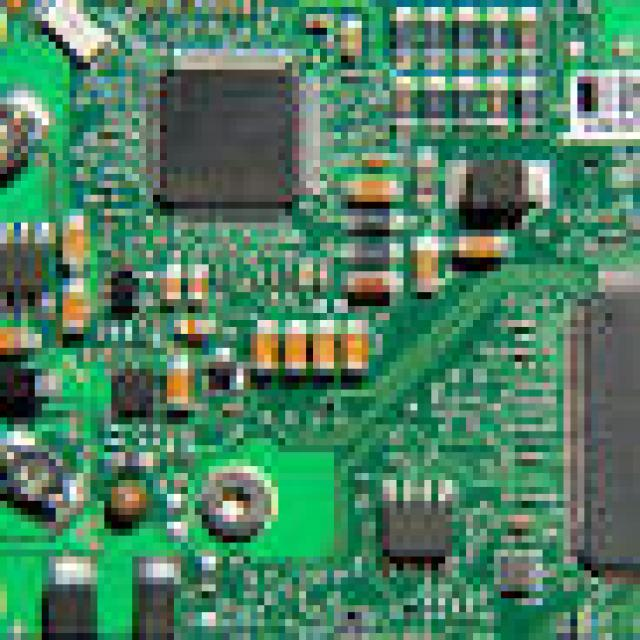pcb: (0, 0, 633, 633), (564, 264, 633, 578), (564, 63, 633, 132)
